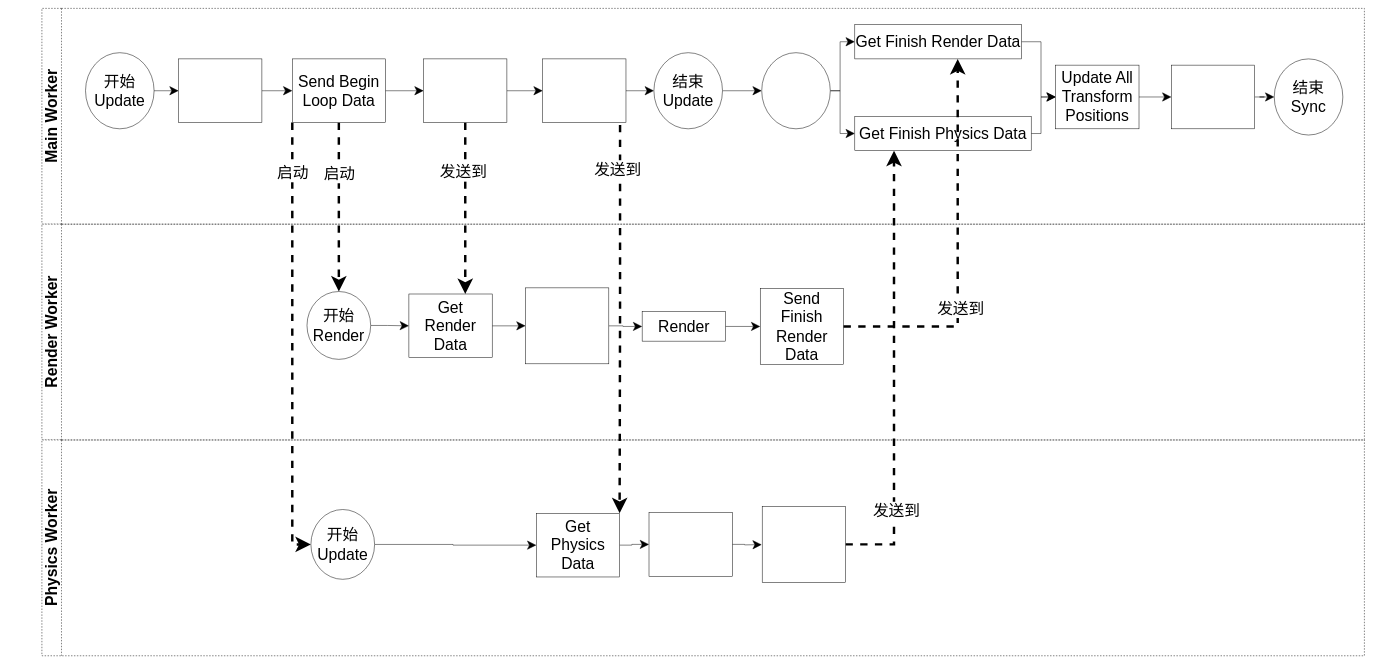
The diagram is 1373 pixels wide and 665 high, and some of its shapes have lost their labels. Here are the shapes that lost their labels. From the top down, the centre of each, then its label:
At (220,90): "Update Render Data Buffer".
At (465,90): "Send Render Data".
At (584,90): "Send Physics Data".
At (795,90): "开始 Sync".
At (1213,97): "Update Transform".
At (567,325): "Send Uniform Shader Data".
At (690,544): "Compute Physics".
At (803,544): "Send Finish Physics Data".
